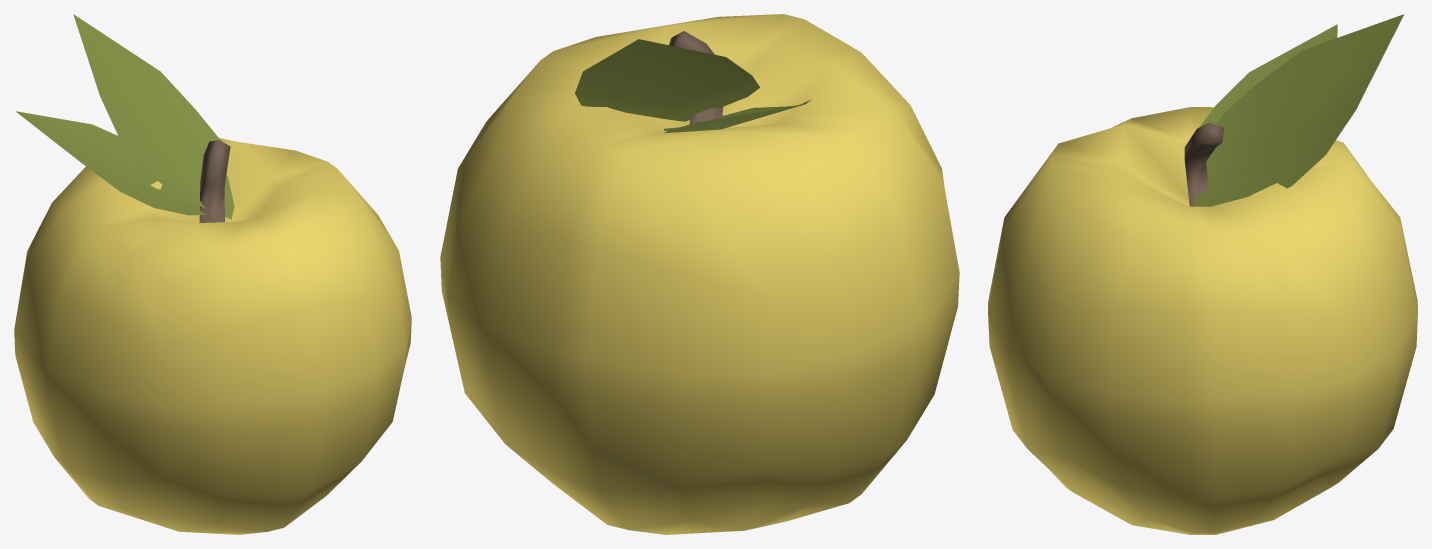
File: fruitNormal_cynthiachen_v01.fbx
3 renders of one model, left to right at view 1: azimuth 30°, elevation 25°; view 2: azimuth 150°, elevation 25°; view 3: azimuth 270°, elevation 25°, orthographic. The views are drawn at different scales.
Parts seen in each view (by area): view 1: 0_fruit_normal.000; view 2: 0_fruit_normal.000; view 3: 0_fruit_normal.000.
Part boxes in pixels (x1,y1,x2,y2): 0_fruit_normal.000: (14, 14, 411, 534); 0_fruit_normal.000: (440, 14, 959, 534); 0_fruit_normal.000: (988, 14, 1417, 534).
Bounding box in the file's own units: 16.47 × 19.88 × 16.49.
